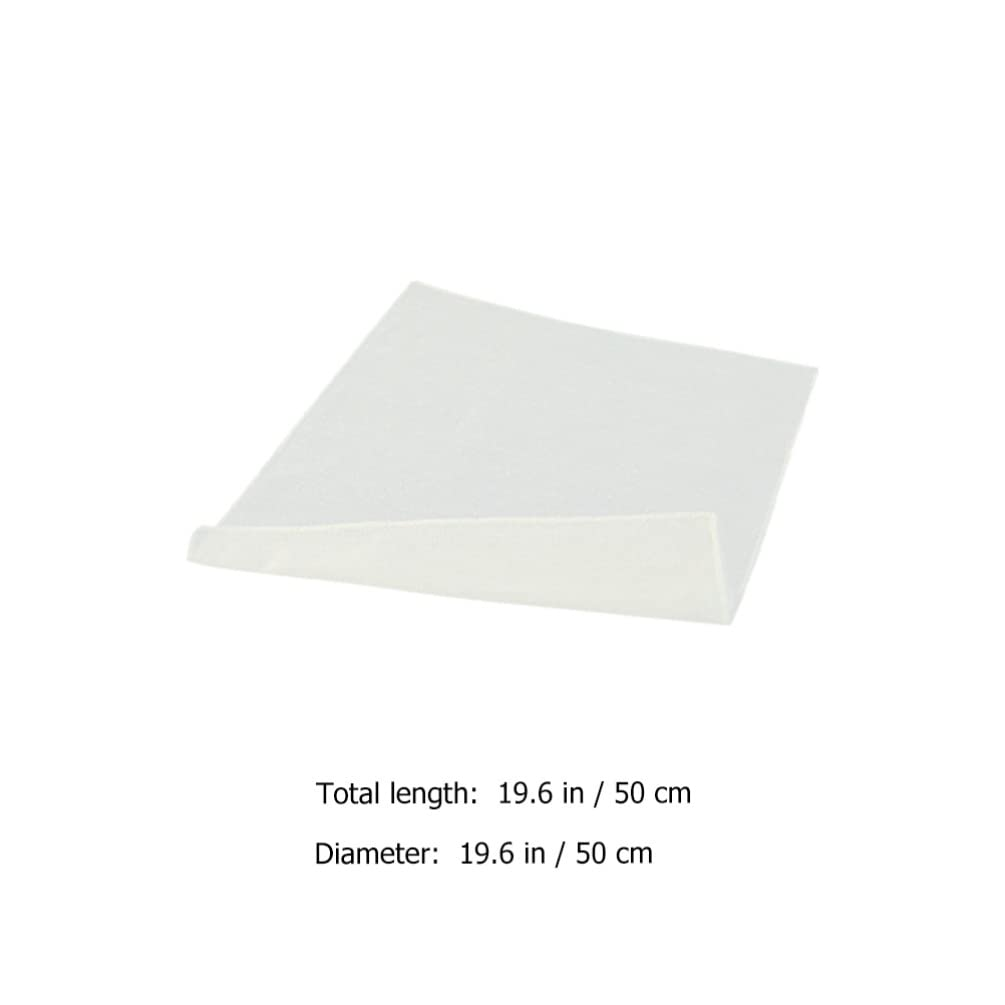/: (594, 781, 604, 808), (555, 841, 565, 868)
19.6: (500, 781, 552, 804), (462, 842, 514, 864)
50: (616, 781, 644, 804), (577, 842, 606, 864)
Diameter:: (316, 843, 437, 864)
Total: (316, 781, 378, 804)
cm: (655, 786, 690, 803), (617, 847, 652, 864)
in: (525, 842, 545, 864), (564, 782, 583, 803)
length:: (391, 781, 476, 810)
